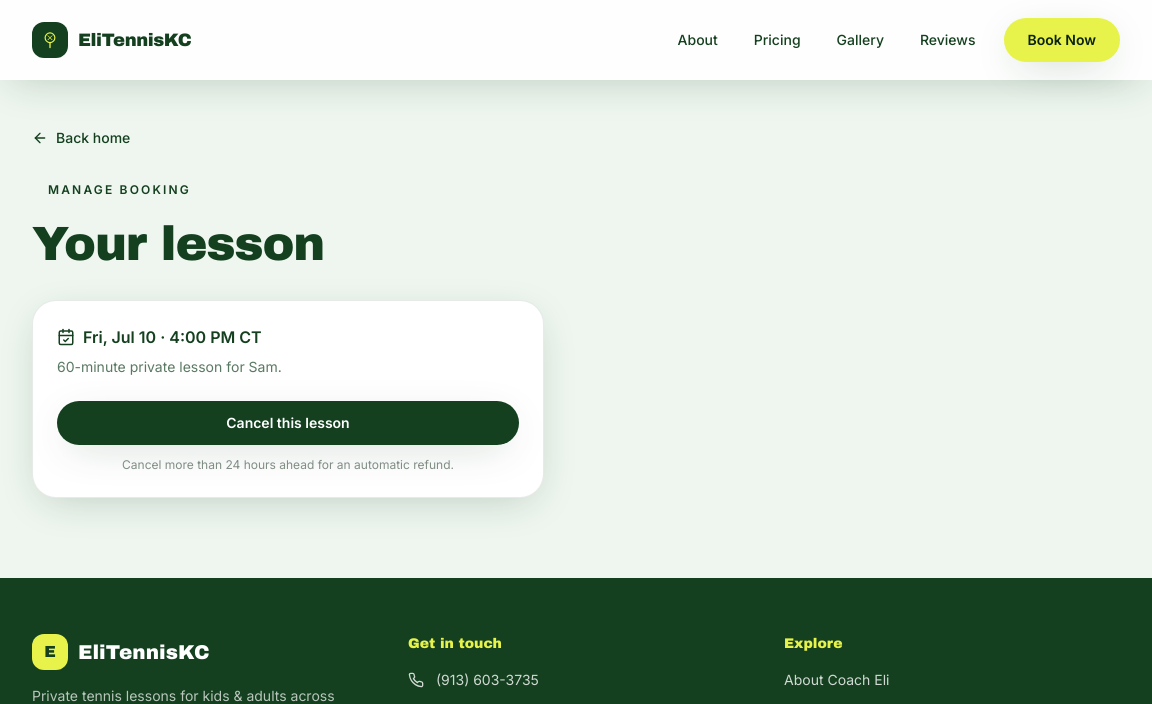
Test: ManageBooking › cancels without a refund (inside 24h) and shows the discretion message
Click the button "Cancel this lesson" at (288, 423), box [57,401,519,445]
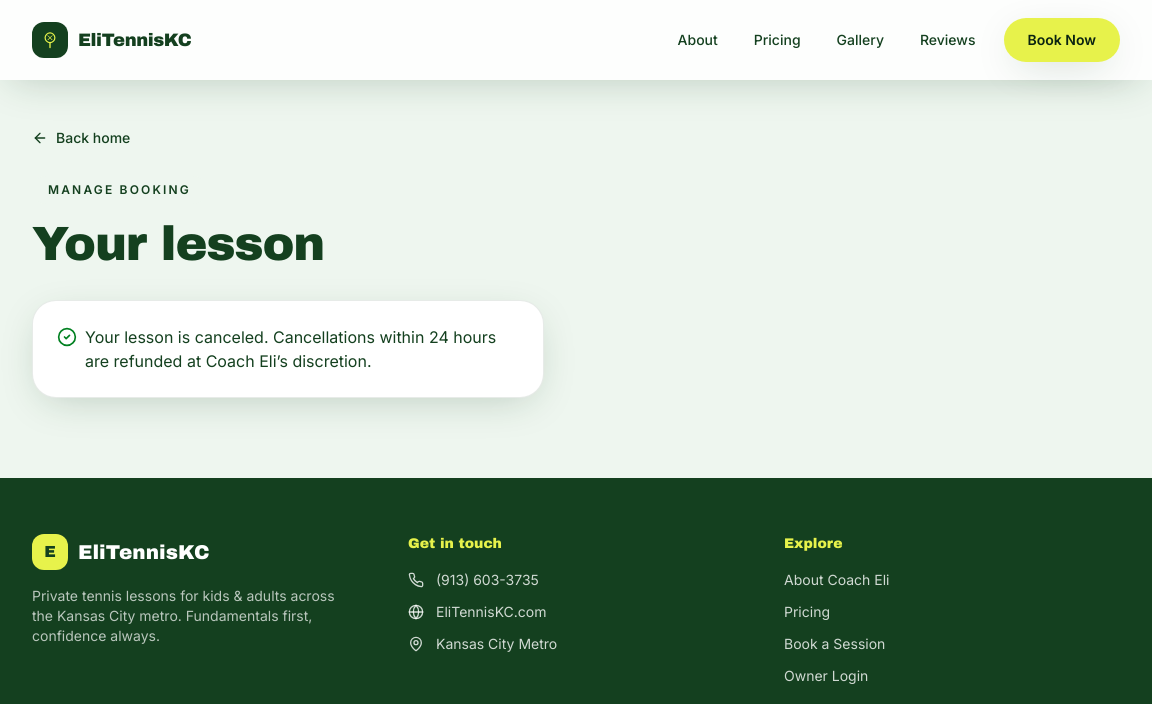
Expected: the text "discretion" is shown, [85,327,496,371]
